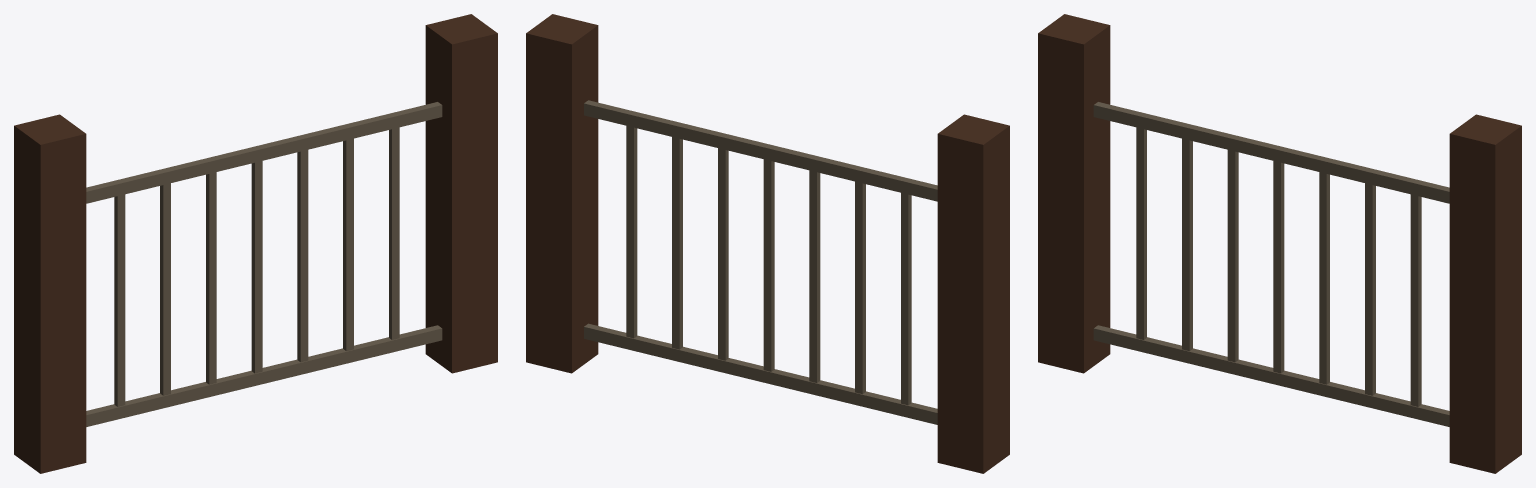
File: gate.fbx
The picture shows the model from 3 angles, left to right: view 1: azimuth 30°, elevation 25°; view 2: azimuth 150°, elevation 25°; view 3: azimuth 330°, elevation 25°; orthographic projection.
Parts seen in each view (by area): view 1: a2000/0/gate; view 2: a2000/0/gate; view 3: a2000/0/gate.
Part boxes in pixels (x1=…): a2000/0/gate: x1=14, y1=14, x2=497, y2=473; a2000/0/gate: x1=526, y1=14, x2=1009, y2=473; a2000/0/gate: x1=1038, y1=14, x2=1521, y2=473.
Size of the model in its own units: 2.4 by 1.65 by 0.24.
